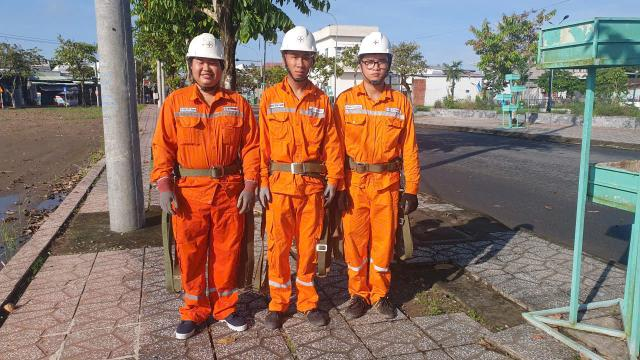gloves: (155, 188, 185, 218), (316, 181, 340, 207), (236, 183, 255, 215), (398, 191, 420, 215), (254, 186, 270, 204)
harness: (264, 154, 329, 182), (343, 152, 412, 176), (168, 160, 243, 180)
helmet: (175, 25, 232, 67), (269, 22, 318, 59), (347, 33, 397, 62)
shoes: (341, 291, 374, 323), (172, 312, 202, 346), (217, 306, 247, 337), (296, 298, 326, 328), (370, 290, 397, 319), (262, 301, 285, 332)
